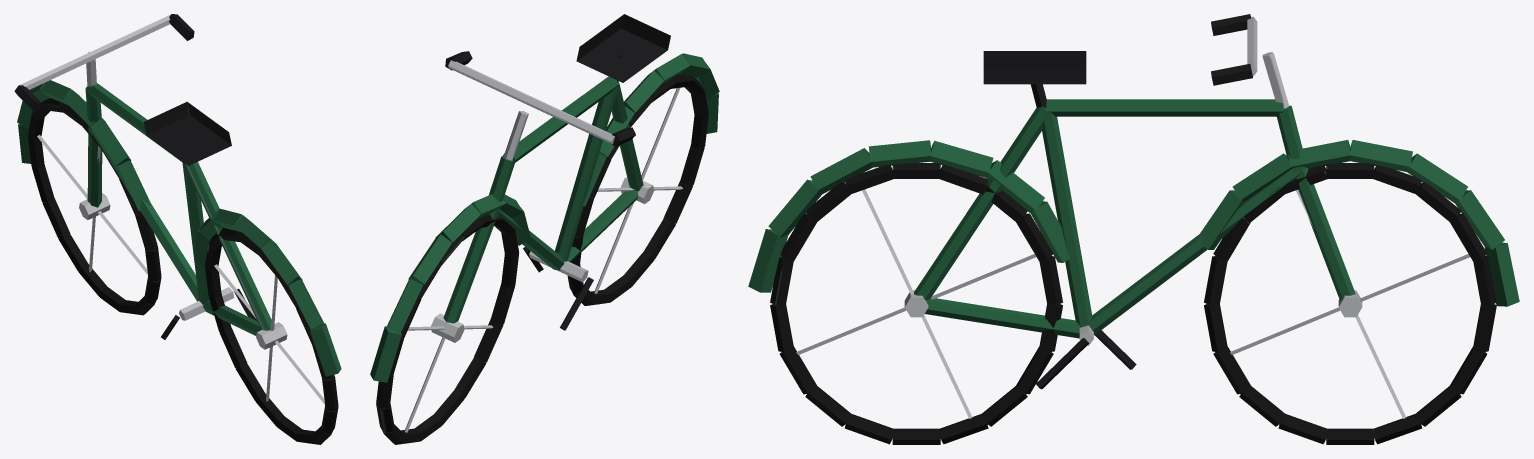
The model's file is kolo_3a59c233.glb.
3 views of the same model, side by side, from view 1: azimuth 30°, elevation 25°; view 2: azimuth 150°, elevation 25°; view 3: azimuth 270°, elevation 25° (orthographic). The views are drawn at different scales.
Parts seen in each view (by area): view 1: dum; view 2: dum; view 3: dum.
Boxes of the visible parts, x1,y1,x2,y2 form: dum: (14, 14, 341, 444); dum: (370, 14, 719, 444); dum: (748, 14, 1519, 444).
Bounding box in the file's own units: 0.5906 × 1.09 × 1.95.
Materials: 1 (1 with a texture image).
